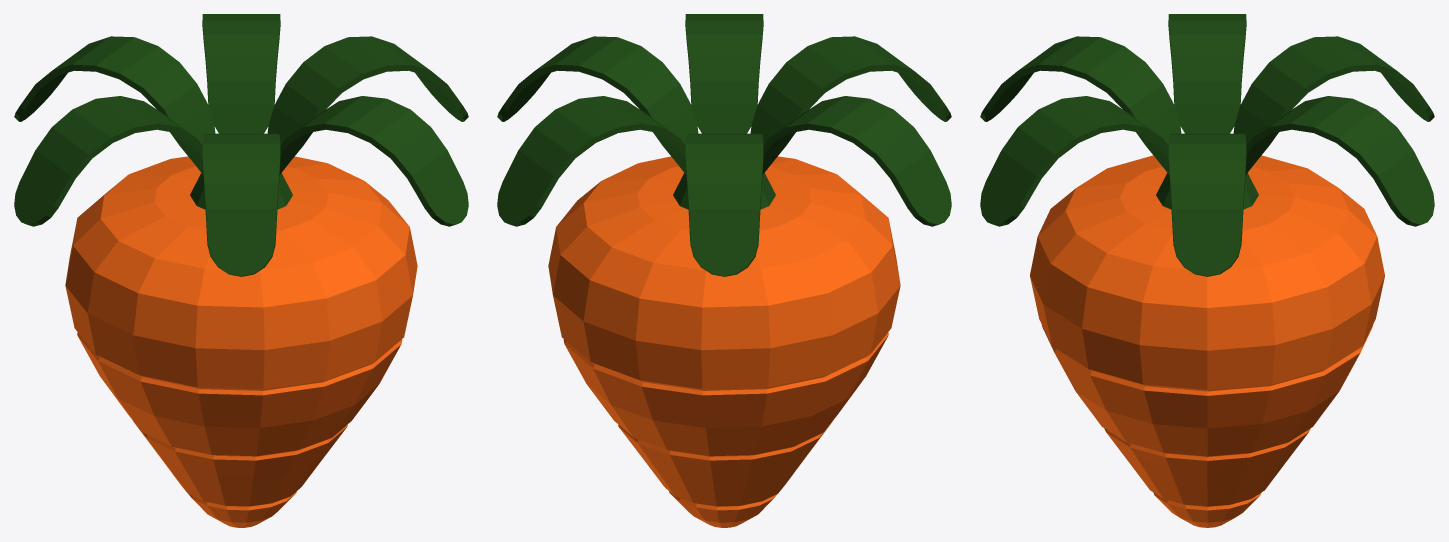
Rendered from carrot.obj.
3 views of the same model, side by side, from view 1: azimuth 30°, elevation 25°; view 2: azimuth 150°, elevation 25°; view 3: azimuth 270°, elevation 25° (orthographic).
Visible parts, largest first — view 1: Carrot.002; view 2: Carrot.002; view 3: Carrot.002.
Boxes of the visible parts, box(x1,y1,x2,y2) form: Carrot.002: box(14, 14, 468, 527); Carrot.002: box(497, 14, 951, 527); Carrot.002: box(980, 14, 1434, 527).
Bounding box in the file's own units: 19.72 × 18.91 × 17.62.
